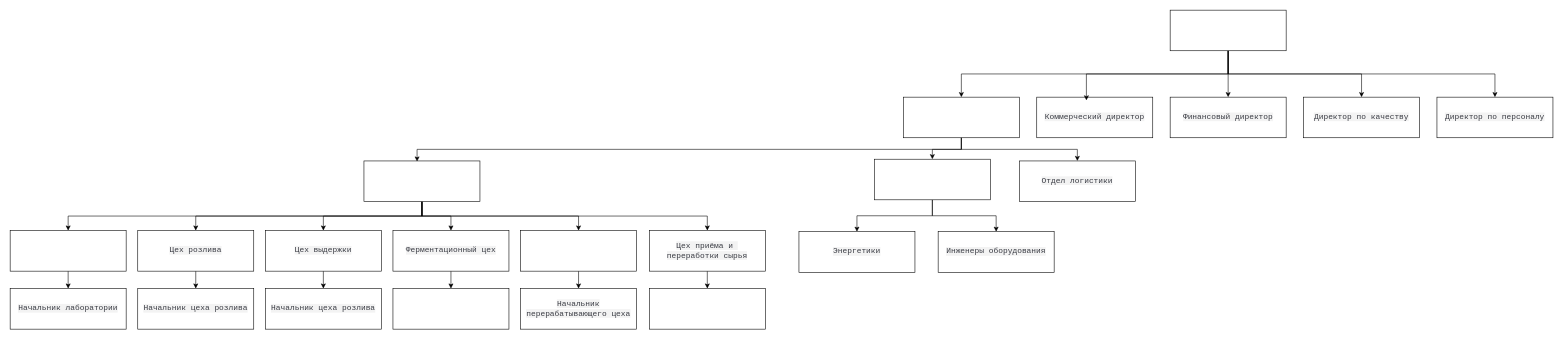
Image size: 1563x339. Some labels were removed from this diagram. Each missing label, with the centre of its shape:
"Генеральный директор" goes at pixel 1228 30.
"Лаборатория" goes at pixel 68 250.
"Начальник ферментационного цеха" goes at pixel 450 308.
"Начальник цеха приёма и переработки сырья" goes at pixel 707 308.
"Перерабатывающий цех" goes at pixel 578 250.
"Производственный блок" goes at pixel 421 181.
"Технический директор" goes at pixel 961 117.
"Технический отдел" goes at pixel 932 179.
